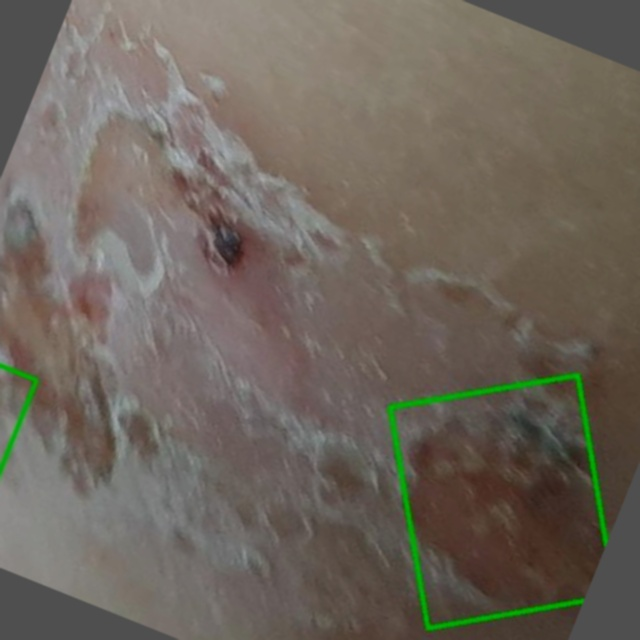Contact Dermatitis: (390, 376, 606, 628)
